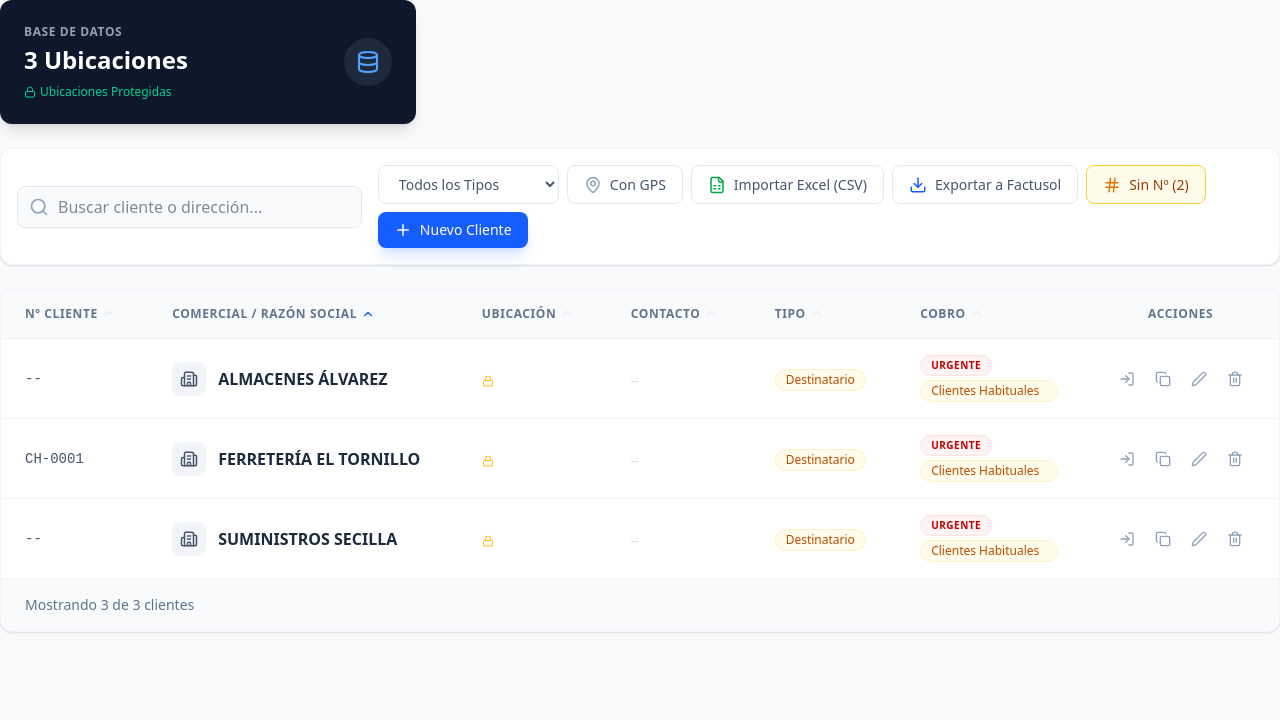
Scenario: Clients — repasar las fichas sin Nº › enseña el número que le tocaría a cada una antes de escribir nada
Step 1. Click the button "Sin Nº (2)" → (1146, 184), box [1086, 165, 1206, 204]
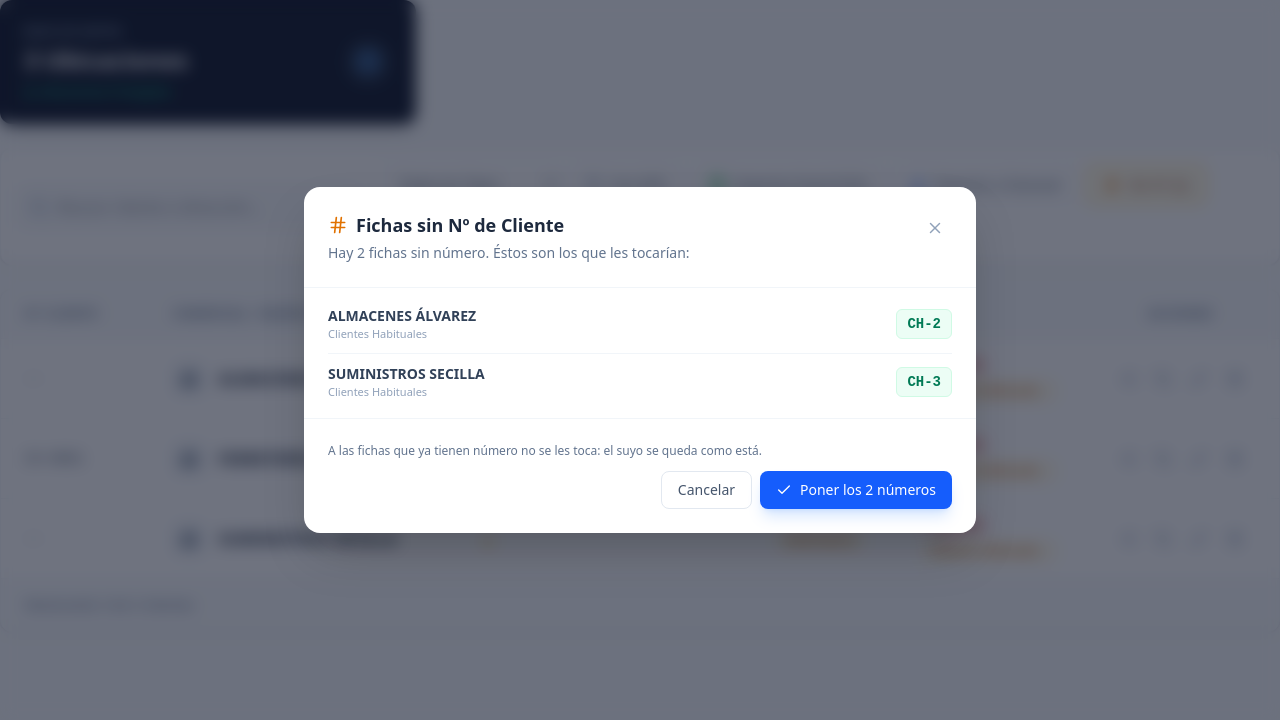
Expected: the text "CH-2" is shown, [896, 309, 952, 339]
Expected: the text "CH-3" is shown, [896, 367, 952, 397]
